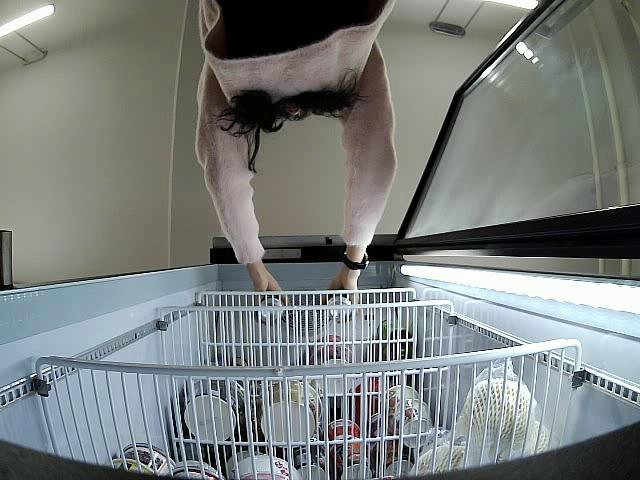00_hand: (324, 269, 359, 303), (255, 272, 284, 302)
